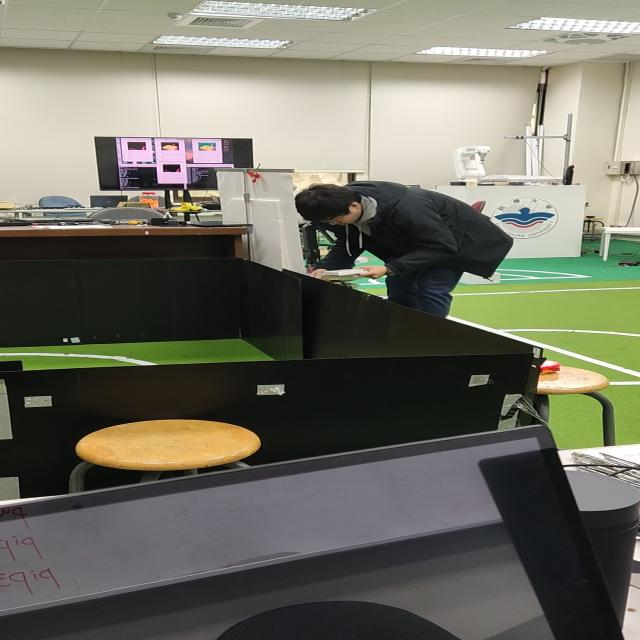person: (276, 159, 528, 323)
